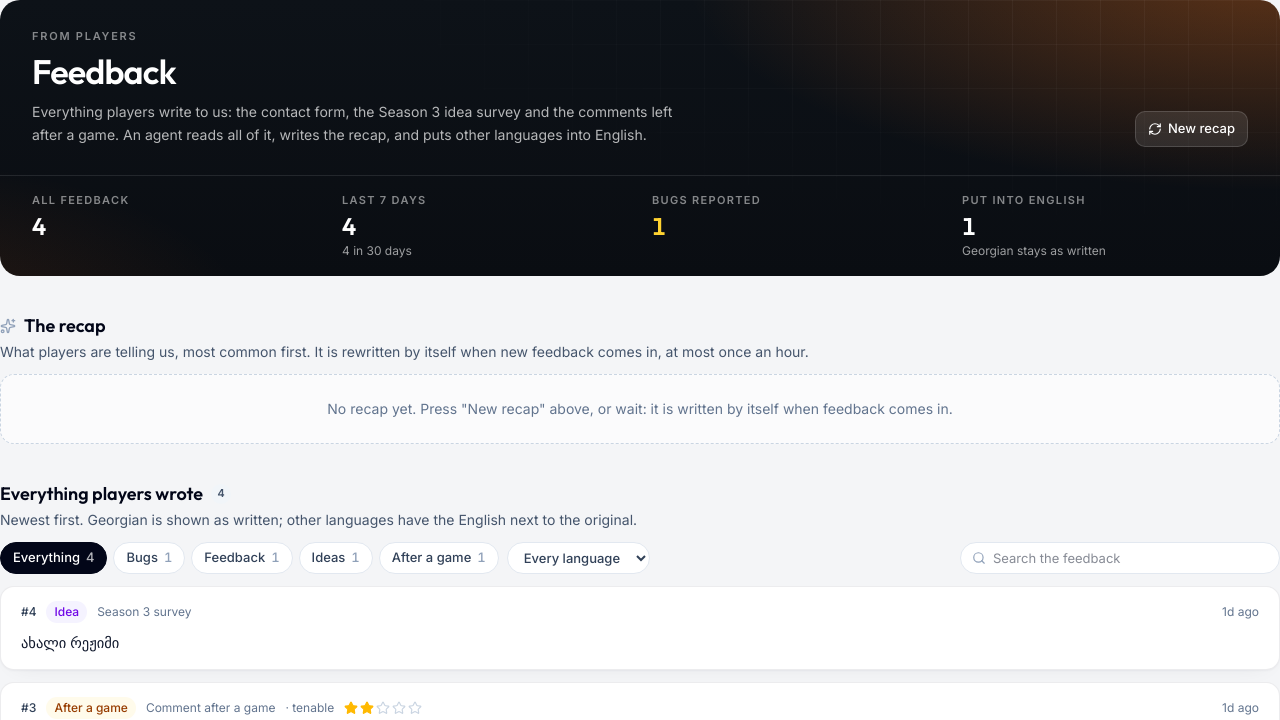
Scenario: filters by kind, language and words
expect the picture named "2 of 5 stars" is shown: met, box [344,701,422,715]
Select "Translated only" in the dropdown named "Language" at (578, 558), box [507,542,650,574]
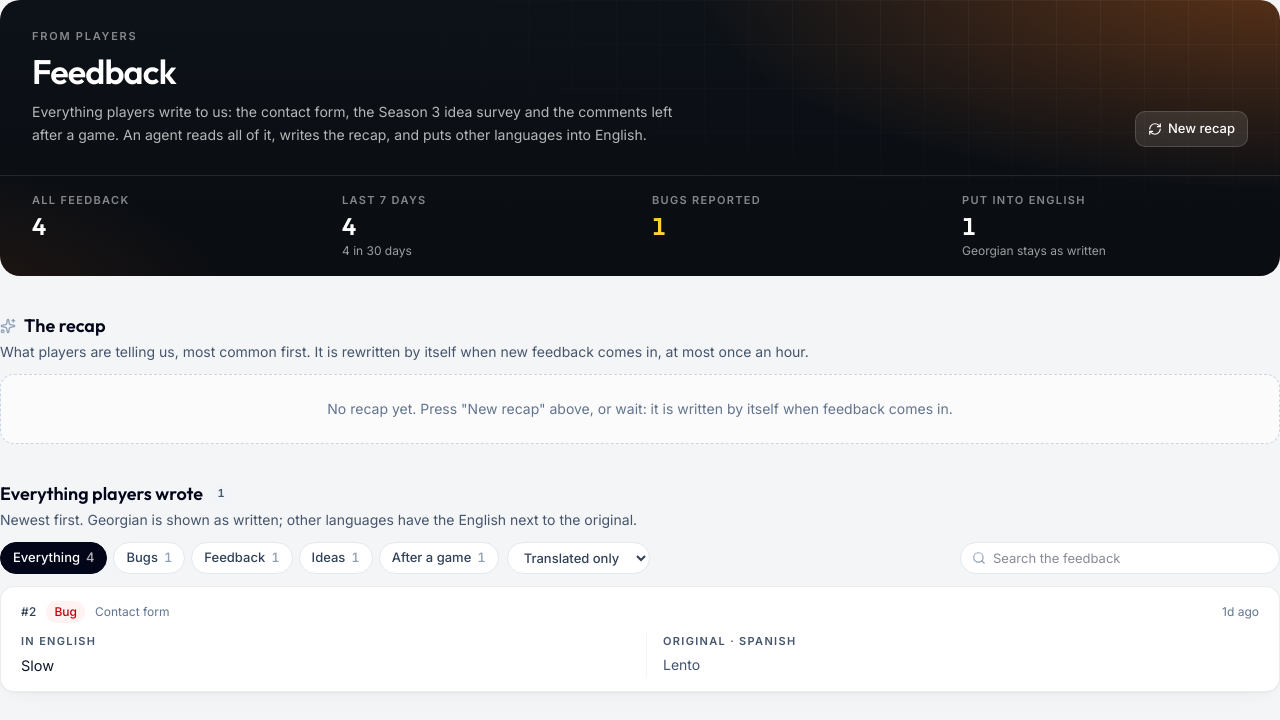
Select "Georgian only" in the dropdown named "Language" at (578, 558), box [507,542,650,574]
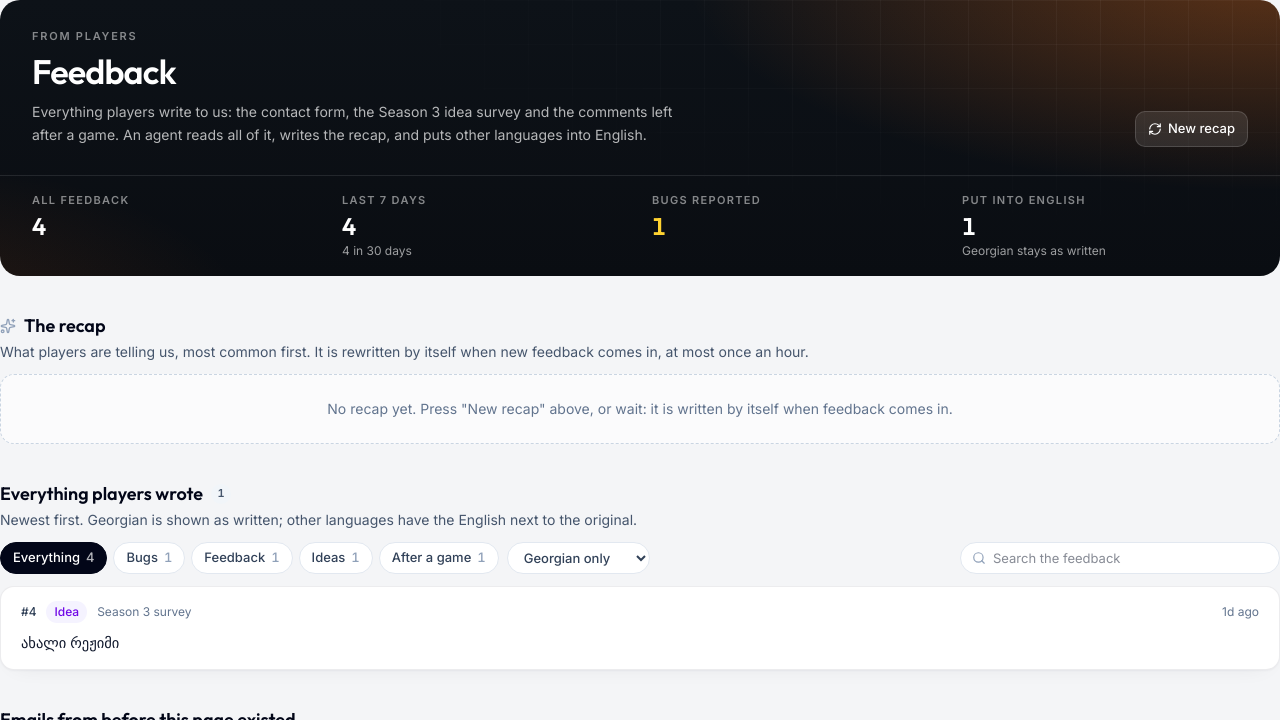
Select "Every language" in the dropdown named "Language" at (578, 558), box [507,542,650,574]
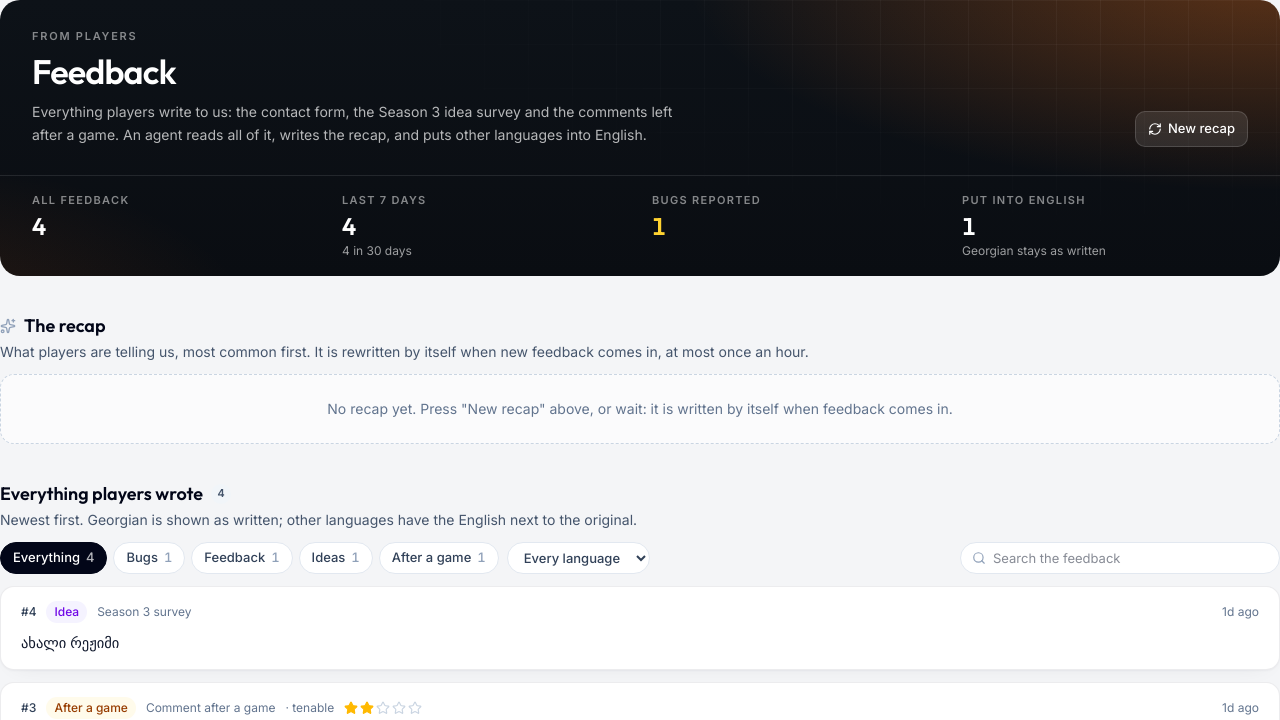
Type "slow" into the search field labelled "Search the feedback" at (1120, 558), box [960,542,1279,574]
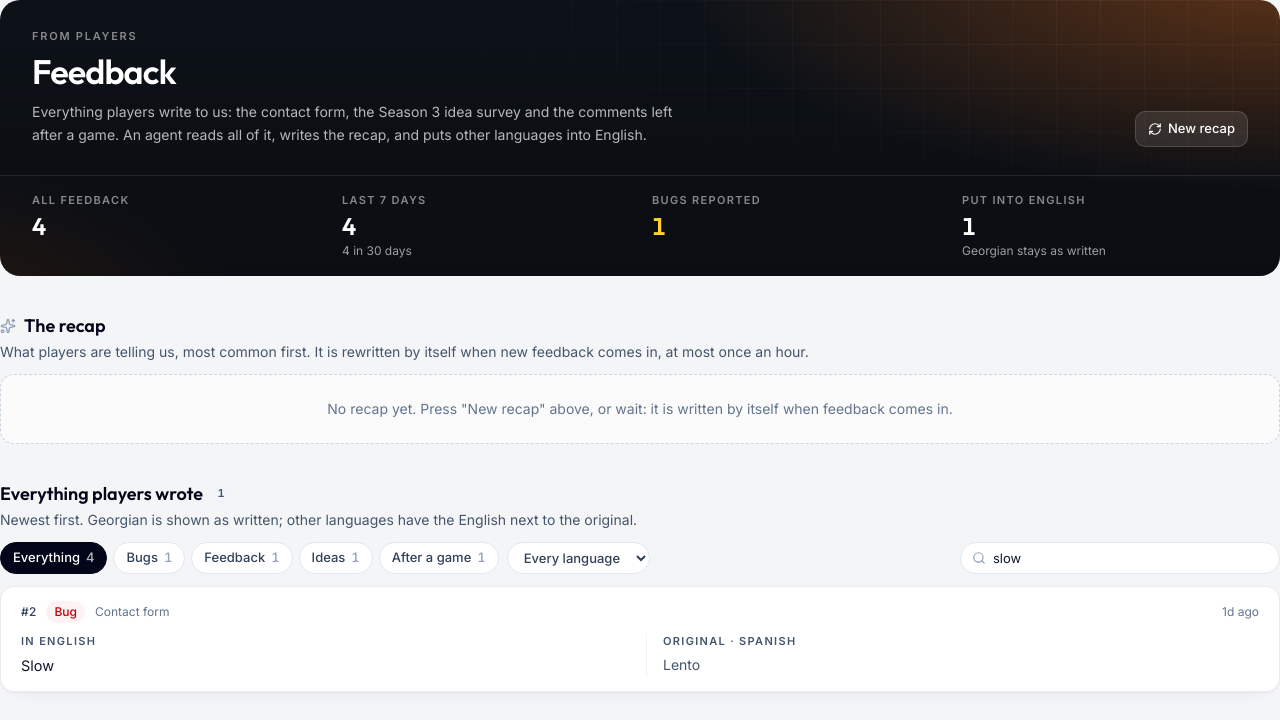
Replace the text in the search field named "Search the feedback" with "zzz" at (1120, 558), box [960,542,1279,574]
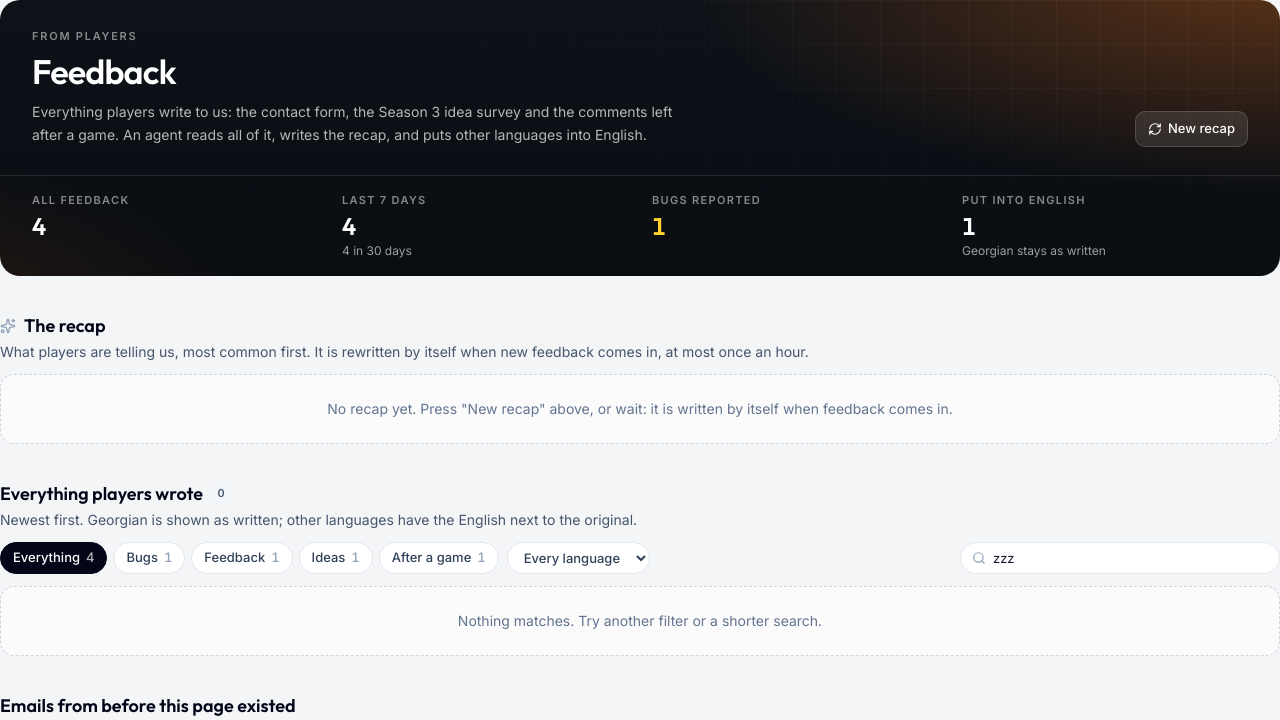
expect the text "Nothing matches. Try another filter or a shorter search." is shown: met, box [0,586,1279,656]
